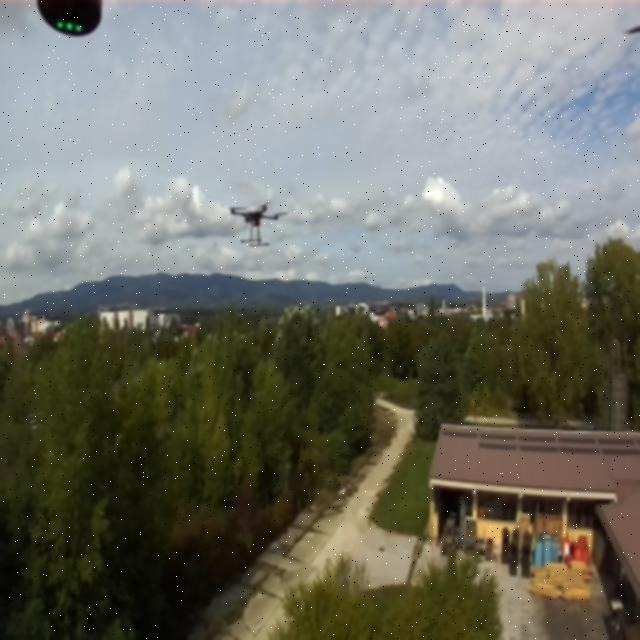UAV: (218, 196, 292, 250)
